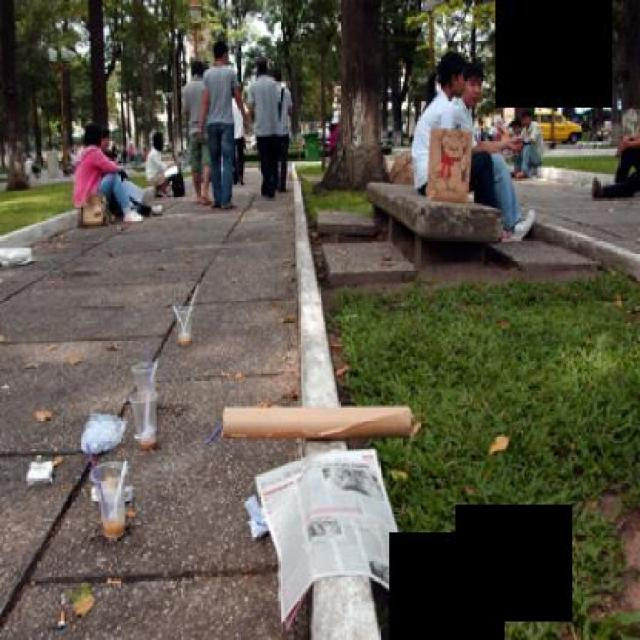plastic bag: (78, 408, 132, 450), (0, 246, 34, 269)
